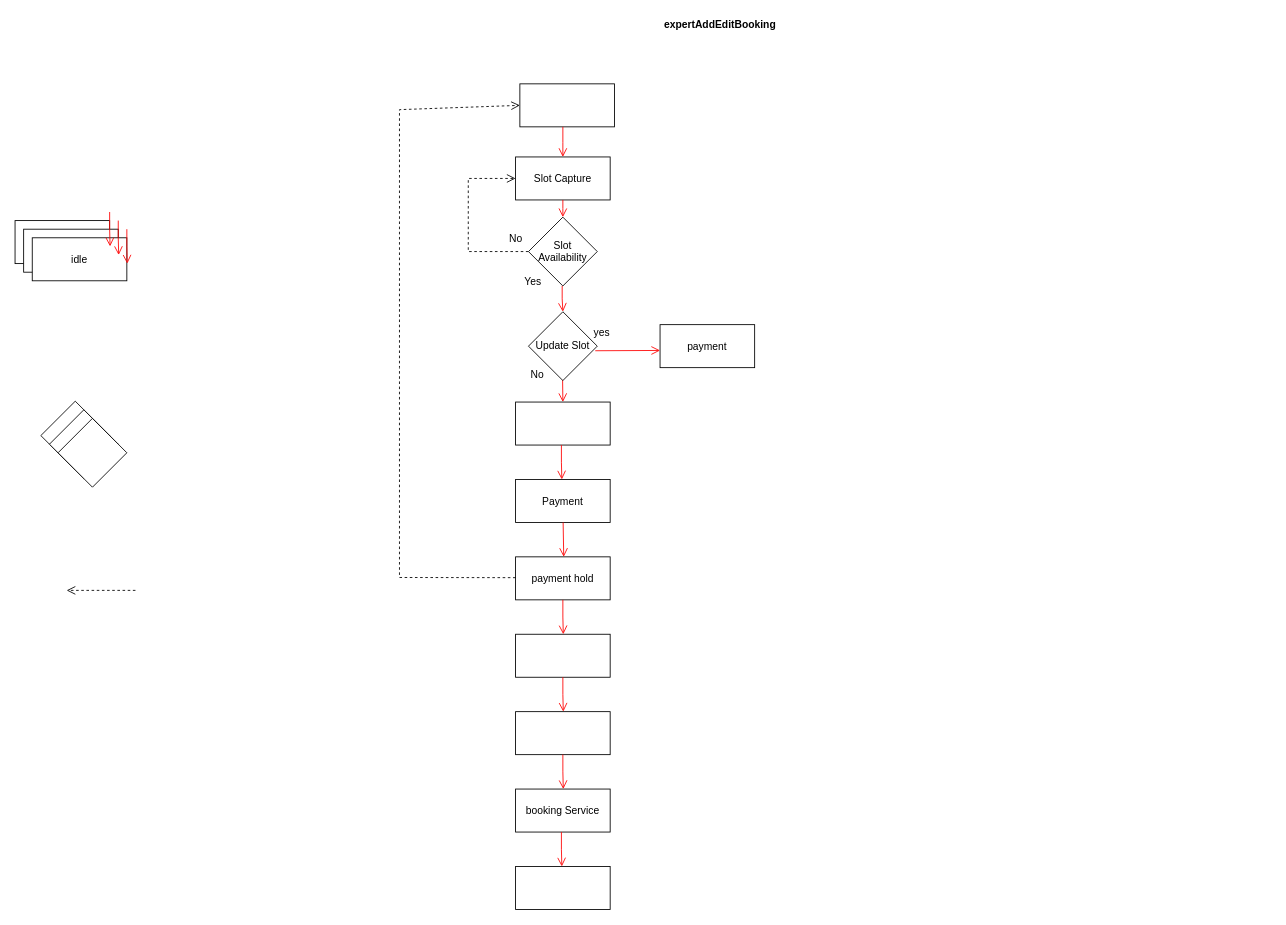
This 1286x925 diagram has some shape labels left out. The shapes that lost their labels are listed below. From the top down, each one's box as (x1, y1, x2, y2) in pixels, then its label:
(519, 83, 614, 127): Purchase Order
(515, 401, 610, 445): payment Service
(515, 633, 610, 677): Final Purchase order
(515, 711, 610, 755): Sell order
(515, 866, 610, 909): Invoice
